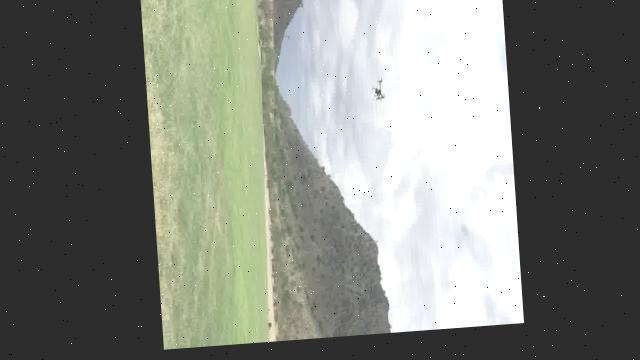drone: (369, 80, 387, 108)
